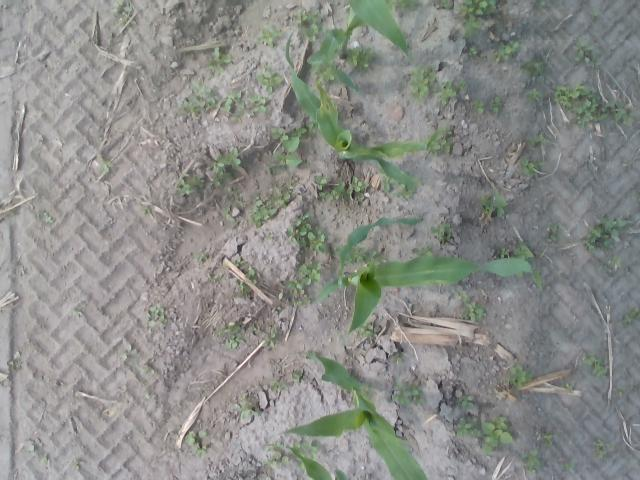Maize: (316, 216, 542, 333), (284, 30, 440, 188), (276, 351, 429, 480), (307, 0, 411, 96), (258, 443, 348, 480)
Weeds: (180, 79, 266, 123), (250, 184, 292, 228), (286, 216, 328, 253), (590, 219, 626, 247), (273, 136, 303, 166), (575, 88, 599, 123), (294, 10, 320, 41), (482, 189, 508, 218), (206, 47, 232, 75), (482, 422, 512, 446), (255, 71, 284, 95), (406, 68, 428, 98), (318, 178, 344, 200), (508, 366, 534, 388), (573, 40, 596, 64), (174, 175, 203, 194), (434, 82, 456, 106), (460, 0, 496, 14), (300, 262, 322, 284), (495, 40, 519, 60), (392, 380, 411, 404), (430, 222, 451, 242), (461, 302, 484, 320), (258, 28, 278, 48), (148, 304, 166, 326), (357, 48, 372, 70), (235, 403, 257, 418), (616, 108, 634, 126), (210, 159, 227, 178), (346, 46, 362, 65), (526, 448, 540, 469), (456, 418, 472, 436), (235, 281, 251, 299), (525, 61, 544, 76), (463, 14, 479, 31), (224, 323, 242, 338), (272, 451, 290, 466), (354, 248, 376, 260), (112, 1, 132, 14), (188, 431, 208, 444), (224, 148, 240, 164), (555, 86, 570, 103), (312, 68, 333, 80), (286, 280, 304, 294), (398, 183, 413, 199), (514, 244, 529, 260), (270, 127, 288, 140), (222, 206, 236, 222), (262, 332, 276, 348), (530, 134, 546, 148), (270, 378, 287, 391), (390, 0, 417, 8), (294, 442, 318, 451), (593, 361, 607, 376), (314, 176, 328, 190), (494, 416, 509, 429), (458, 396, 474, 408), (120, 344, 132, 360), (411, 246, 433, 254), (358, 325, 374, 336), (411, 380, 422, 396), (522, 160, 534, 174), (351, 178, 363, 192), (472, 100, 484, 114), (625, 310, 637, 324), (244, 270, 256, 284), (381, 176, 391, 192), (490, 96, 500, 112), (456, 290, 469, 302), (550, 224, 559, 241), (614, 384, 626, 396), (235, 256, 247, 268), (430, 142, 440, 156), (530, 88, 540, 102), (42, 213, 54, 224), (572, 82, 584, 93), (440, 139, 450, 152), (292, 128, 306, 137), (600, 100, 610, 112), (583, 240, 595, 250), (481, 444, 493, 454), (196, 250, 208, 260), (140, 366, 154, 374), (610, 255, 620, 266), (291, 370, 302, 380), (393, 352, 402, 364), (414, 397, 426, 406), (145, 392, 158, 400), (544, 434, 554, 444), (442, 0, 454, 8), (584, 356, 596, 364), (207, 274, 219, 282), (595, 114, 608, 121), (500, 248, 510, 257), (471, 429, 481, 438), (40, 453, 48, 464), (26, 440, 34, 451), (428, 69, 435, 81), (455, 81, 467, 88), (226, 340, 238, 347), (390, 177, 399, 186), (105, 162, 113, 172), (211, 178, 221, 186), (142, 206, 152, 214), (72, 310, 82, 318), (240, 394, 250, 402), (590, 8, 600, 16), (468, 48, 477, 56), (594, 439, 603, 447), (197, 446, 206, 454), (217, 328, 226, 336), (72, 460, 80, 469), (534, 162, 544, 169), (564, 463, 574, 470), (562, 100, 572, 107), (604, 266, 612, 274), (598, 450, 606, 458), (304, 296, 312, 304), (565, 383, 575, 389), (264, 232, 274, 238), (278, 289, 284, 299), (262, 62, 269, 70), (472, 415, 479, 423), (576, 116, 582, 125), (293, 300, 303, 305), (529, 469, 536, 475), (277, 306, 283, 312), (540, 2, 546, 6)
